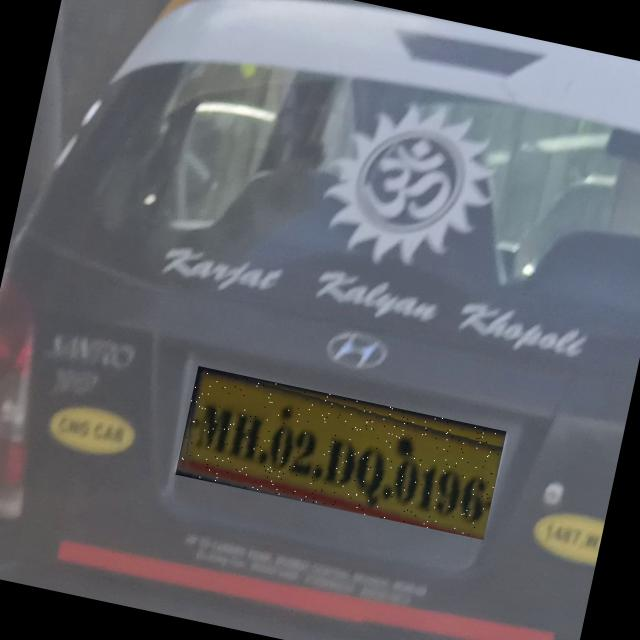Plate: (176, 367, 507, 541)
